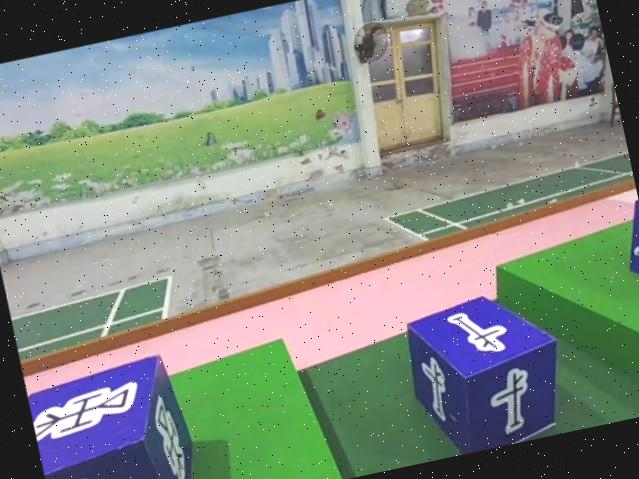R1 Blue: (613, 193, 639, 310)
R2 Real Blue: (395, 283, 571, 462), (397, 285, 572, 461), (23, 353, 204, 479)
